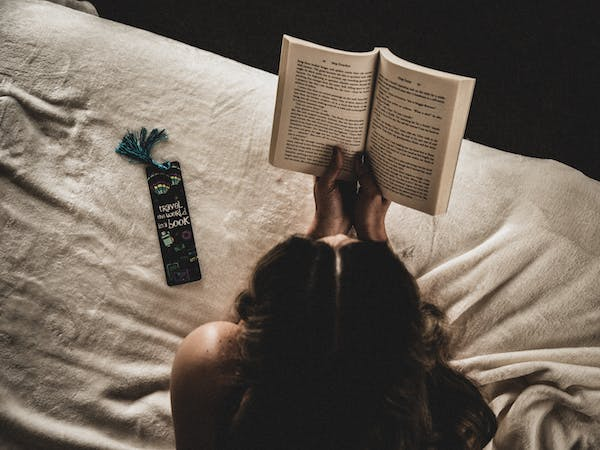book: (265, 33, 480, 223)
